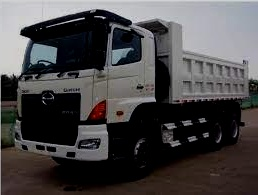truck: (11, 5, 254, 180)
